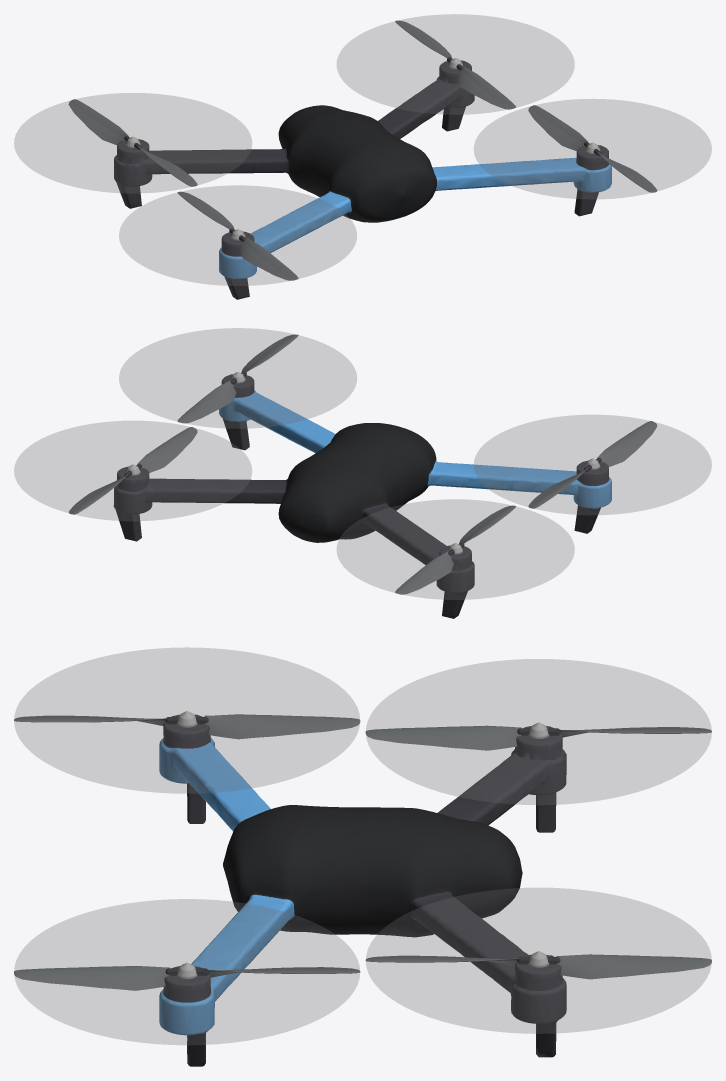
The model's file is iris.glb.
3 views of the same model, one above another, from view 1: azimuth 30°, elevation 25°; view 2: azimuth 150°, elevation 25°; view 3: azimuth 270°, elevation 25° (orthographic). The views are drawn at different scales.
Parts seen in each view (by area): view 1: airframe, fsim:disc:1:600, fsim:disc:3:600, fsim:disc:2:600, fsim:disc:0:600, fsim:blades:2:600, fsim:blades:3:600, fsim:blades:1:600, fsim:blades:0:600; view 2: airframe, fsim:disc:2:600, fsim:disc:0:600, fsim:disc:3:600, fsim:disc:1:600, fsim:blades:0:600, fsim:blades:1:600, fsim:blades:2:600, fsim:blades:3:600; view 3: airframe, fsim:disc:0:600, fsim:disc:1:600, fsim:disc:2:600, fsim:disc:3:600, fsim:blades:0:600, fsim:blades:1:600, fsim:blades:3:600, fsim:blades:2:600.
Boxes of the visible parts, <box> form: airframe: <box>114,60,611,299</box>; fsim:disc:1:600: <box>337,14,574,114</box>; fsim:disc:3:600: <box>14,93,251,193</box>; fsim:disc:2:600: <box>474,99,711,199</box>; fsim:disc:0:600: <box>119,185,356,285</box>; fsim:blades:2:600: <box>528,105,657,192</box>; fsim:blades:3:600: <box>68,99,197,186</box>; fsim:blades:1:600: <box>395,20,515,109</box>; fsim:blades:0:600: <box>177,191,298,280</box>; airframe: <box>113,374,611,618</box>; fsim:disc:2:600: <box>119,328,356,428</box>; fsim:disc:0:600: <box>474,415,711,514</box>; fsim:disc:3:600: <box>337,499,574,599</box>; fsim:disc:1:600: <box>14,421,251,520</box>; fsim:blades:0:600: <box>528,421,657,508</box>; fsim:blades:1:600: <box>69,427,197,514</box>; fsim:blades:2:600: <box>177,334,298,423</box>; fsim:blades:3:600: <box>395,505,515,594</box>; airframe: <box>159,714,566,1066</box>; fsim:disc:0:600: <box>14,647,359,793</box>; fsim:disc:1:600: <box>366,888,711,1033</box>; fsim:disc:2:600: <box>14,899,359,1044</box>; fsim:disc:3:600: <box>366,659,711,804</box>; fsim:blades:0:600: <box>14,714,360,739</box>; fsim:blades:1:600: <box>365,954,711,979</box>; fsim:blades:3:600: <box>365,725,711,750</box>; fsim:blades:2:600: <box>14,966,360,990</box>.
Size of the model in its own units: 0.696 by 0.101 by 0.516.
Materials: 16 (1 with a texture image).
